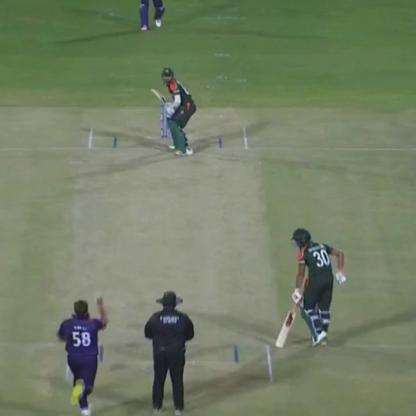ball: (94, 296, 106, 307)
bat: (144, 80, 178, 117), (275, 293, 298, 347)
pitch: (61, 117, 287, 392)
